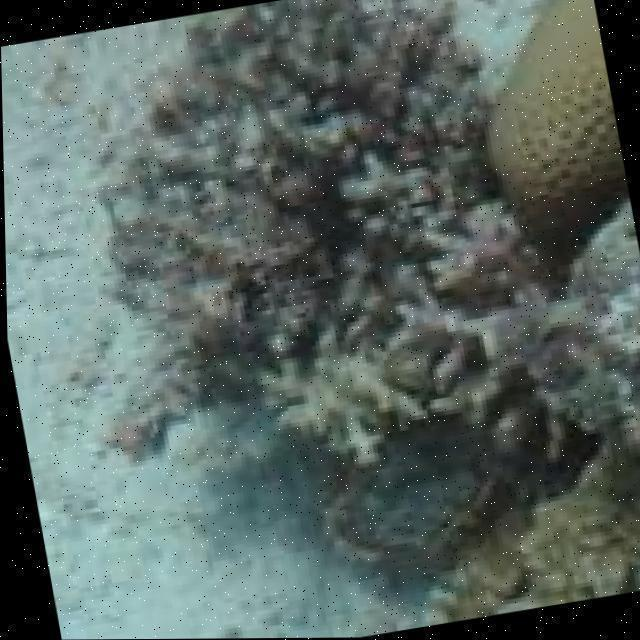Bleached Coral: (289, 353, 405, 474)
